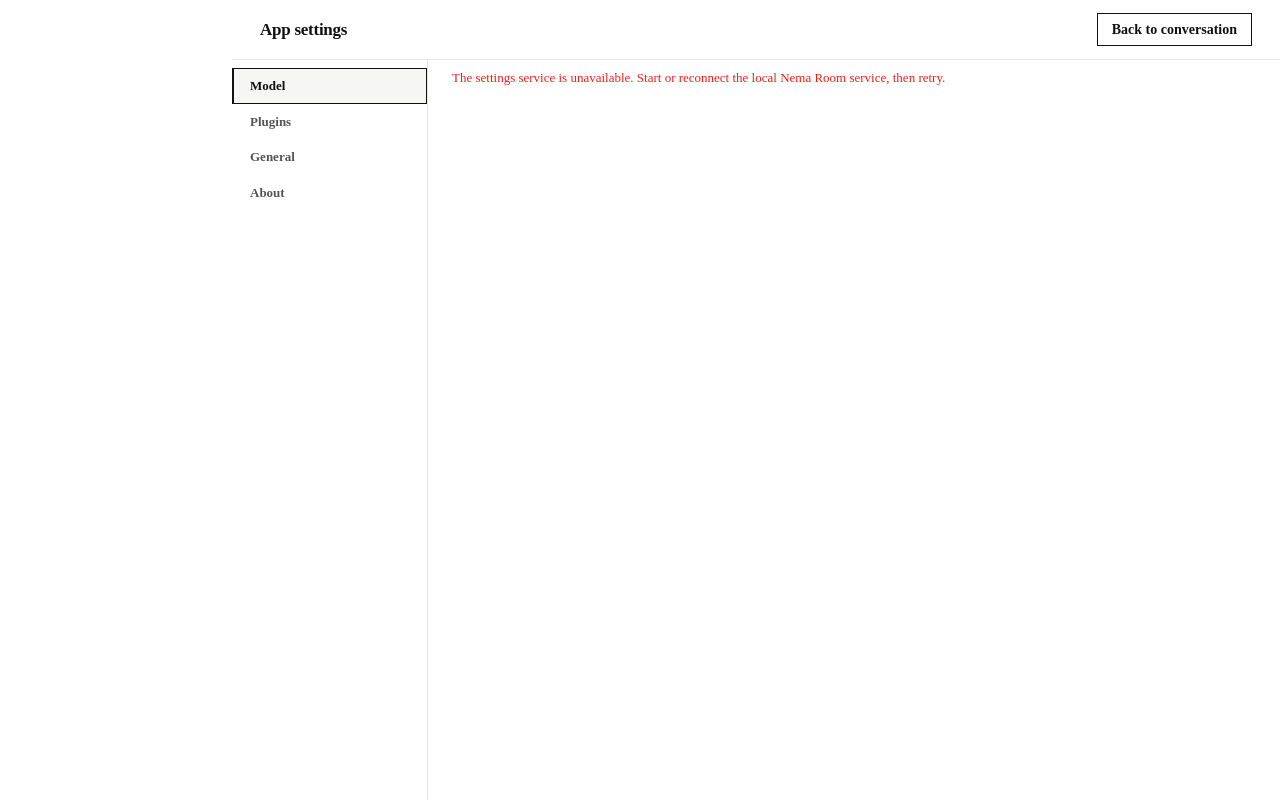
Test: AppSettings › reverts open at login and explains a failed save
Click the tab "General": (330, 157) x1=232 y1=139 x2=427 y2=174
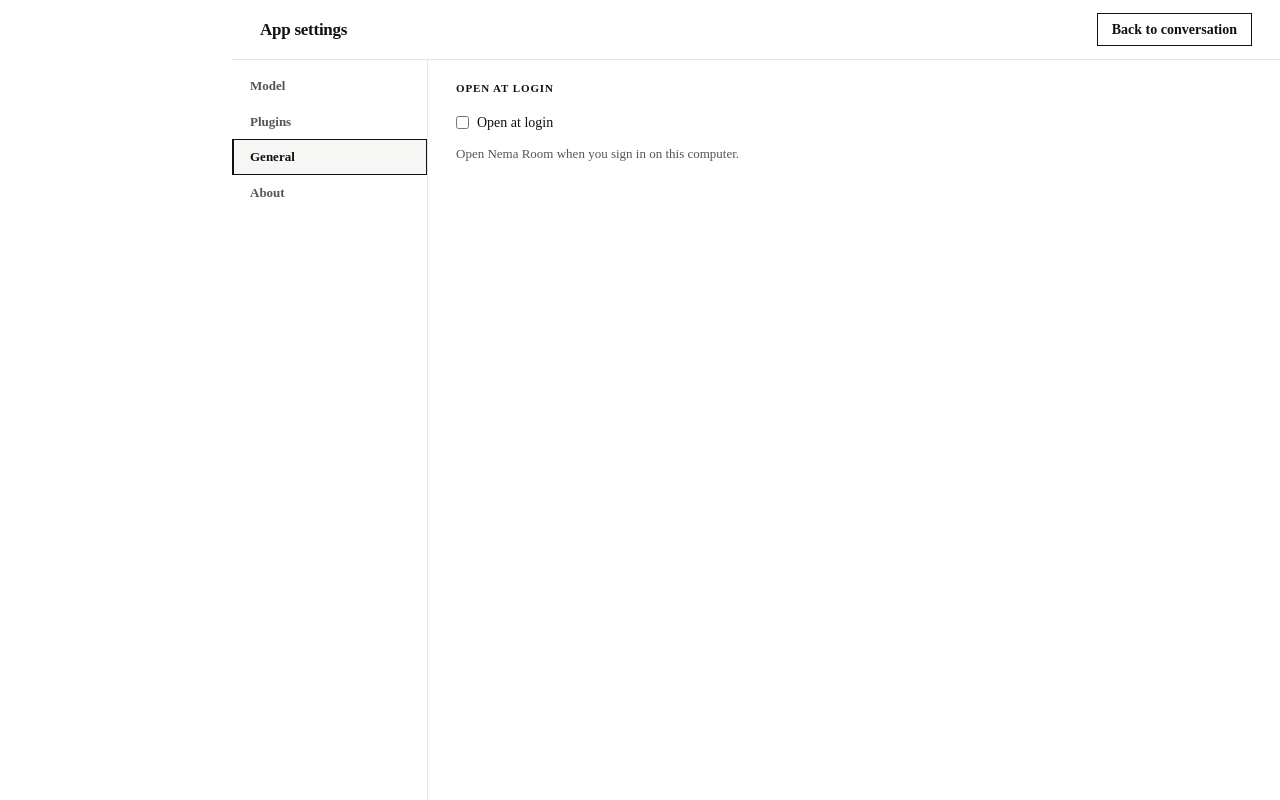
expect the checkbox labelled "Open at login" is enabled: met
Click the checkbox labelled "Open at login": (462, 122) x1=456 y1=116 x2=469 y2=128
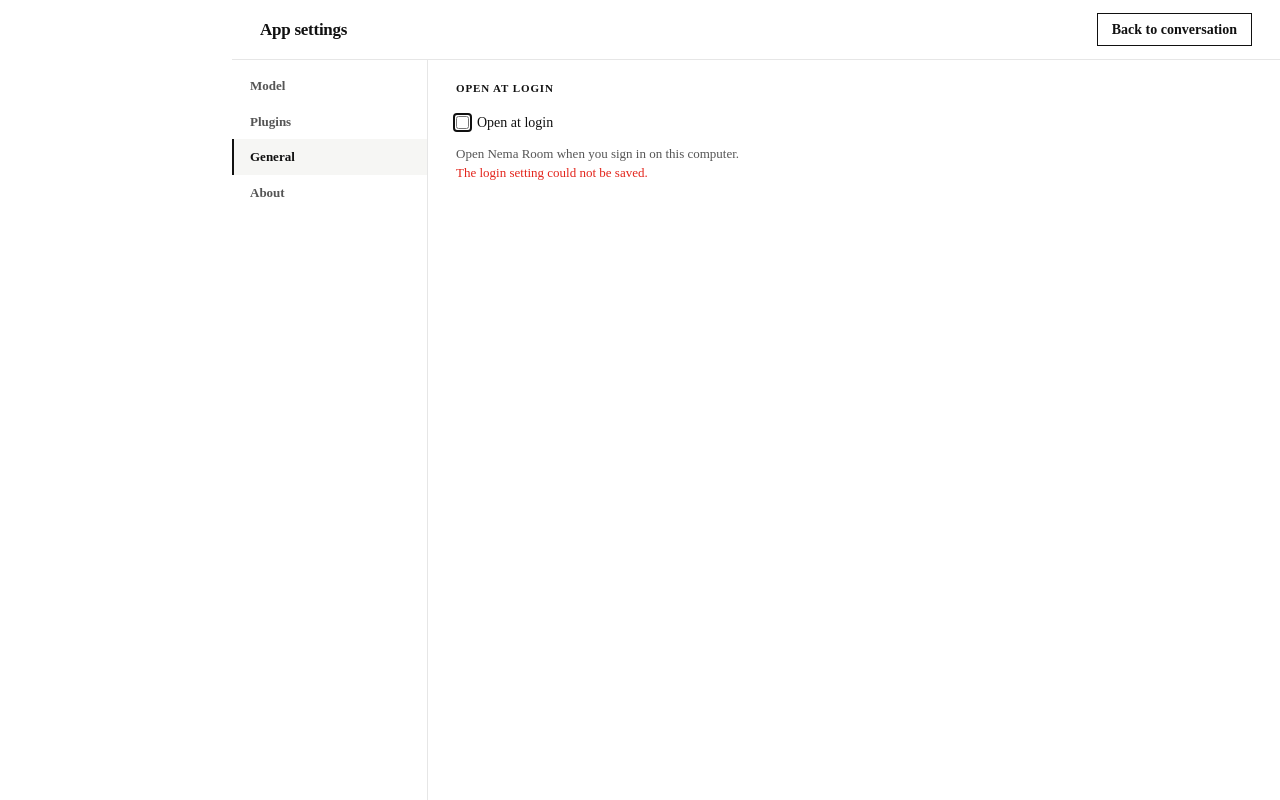
expect the checkbox labelled "Open at login" is not checked: met, box x1=456 y1=116 x2=469 y2=128
expect the message reads "The login setting could not be saved.": met, box x1=456 y1=165 x2=648 y2=180
